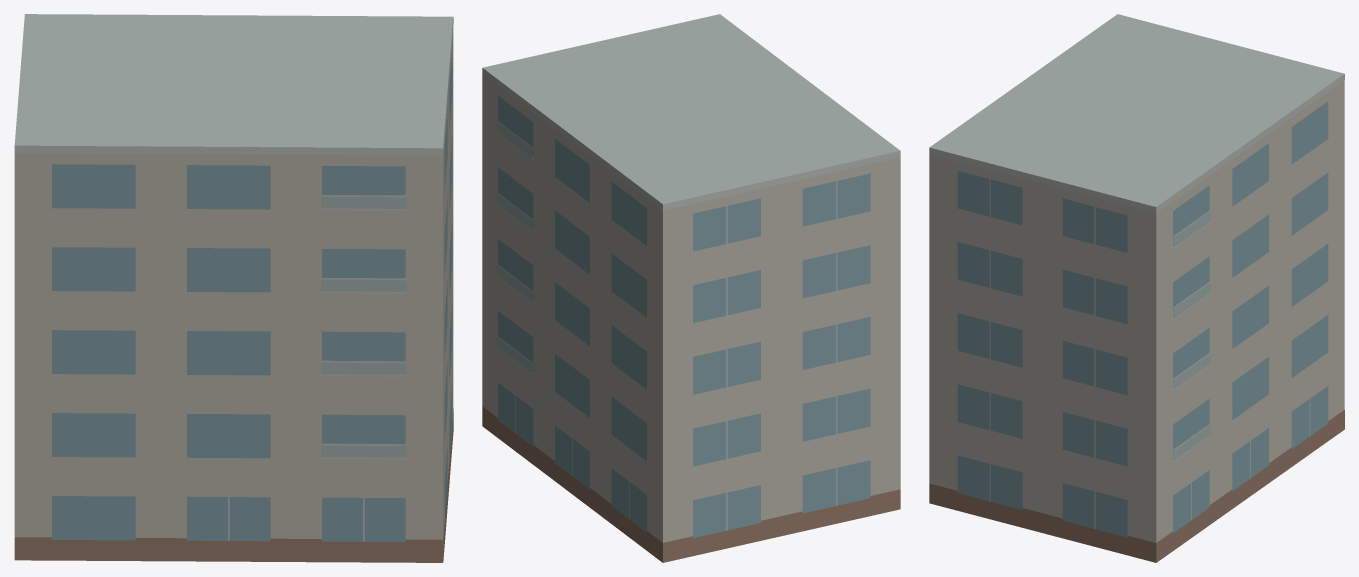
File: survey-upis-32784389.glb
3 views of the same model, side by side, from view 1: azimuth 30°, elevation 25°; view 2: azimuth 150°, elevation 25°; view 3: azimuth 270°, elevation 25° (orthographic). The views are drawn at different scales.
Visible parts, largest first — view 1: survey-upis-32784389.tmp; view 2: survey-upis-32784389.tmp; view 3: survey-upis-32784389.tmp.
Part boxes in pixels (x1,y1,x2,y2): survey-upis-32784389.tmp: (14,14,453,562); survey-upis-32784389.tmp: (482,14,900,562); survey-upis-32784389.tmp: (929,14,1344,562).
Bounding box in the file's own units: 15.72 × 13.5 × 14.3.
